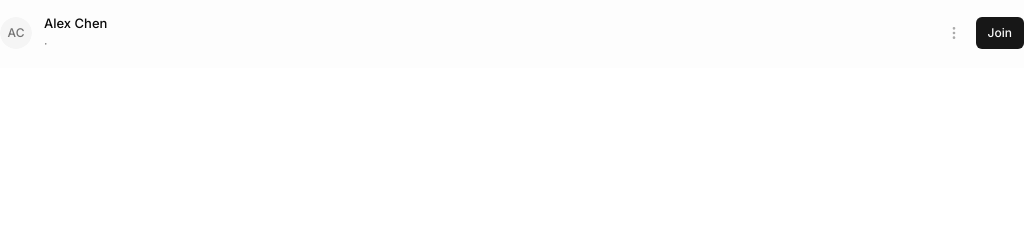
SessionRow — kebab visibility by viewer role › shows Reschedule + Share + Delete for a coach on an upcoming session
Click the button named "session actions": click(954, 33) [938,17,970,49]
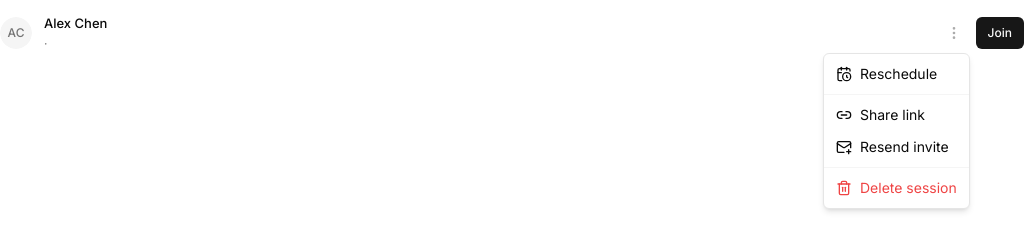
Result: the menu item with test id "session-row-reschedule" is shown at [836,65,937,82]
Result: the menu item with test id "session-row-share-link" is shown at [836,106,925,123]
Result: the menu item with test id "session-row-delete" is shown at [836,179,957,196]
